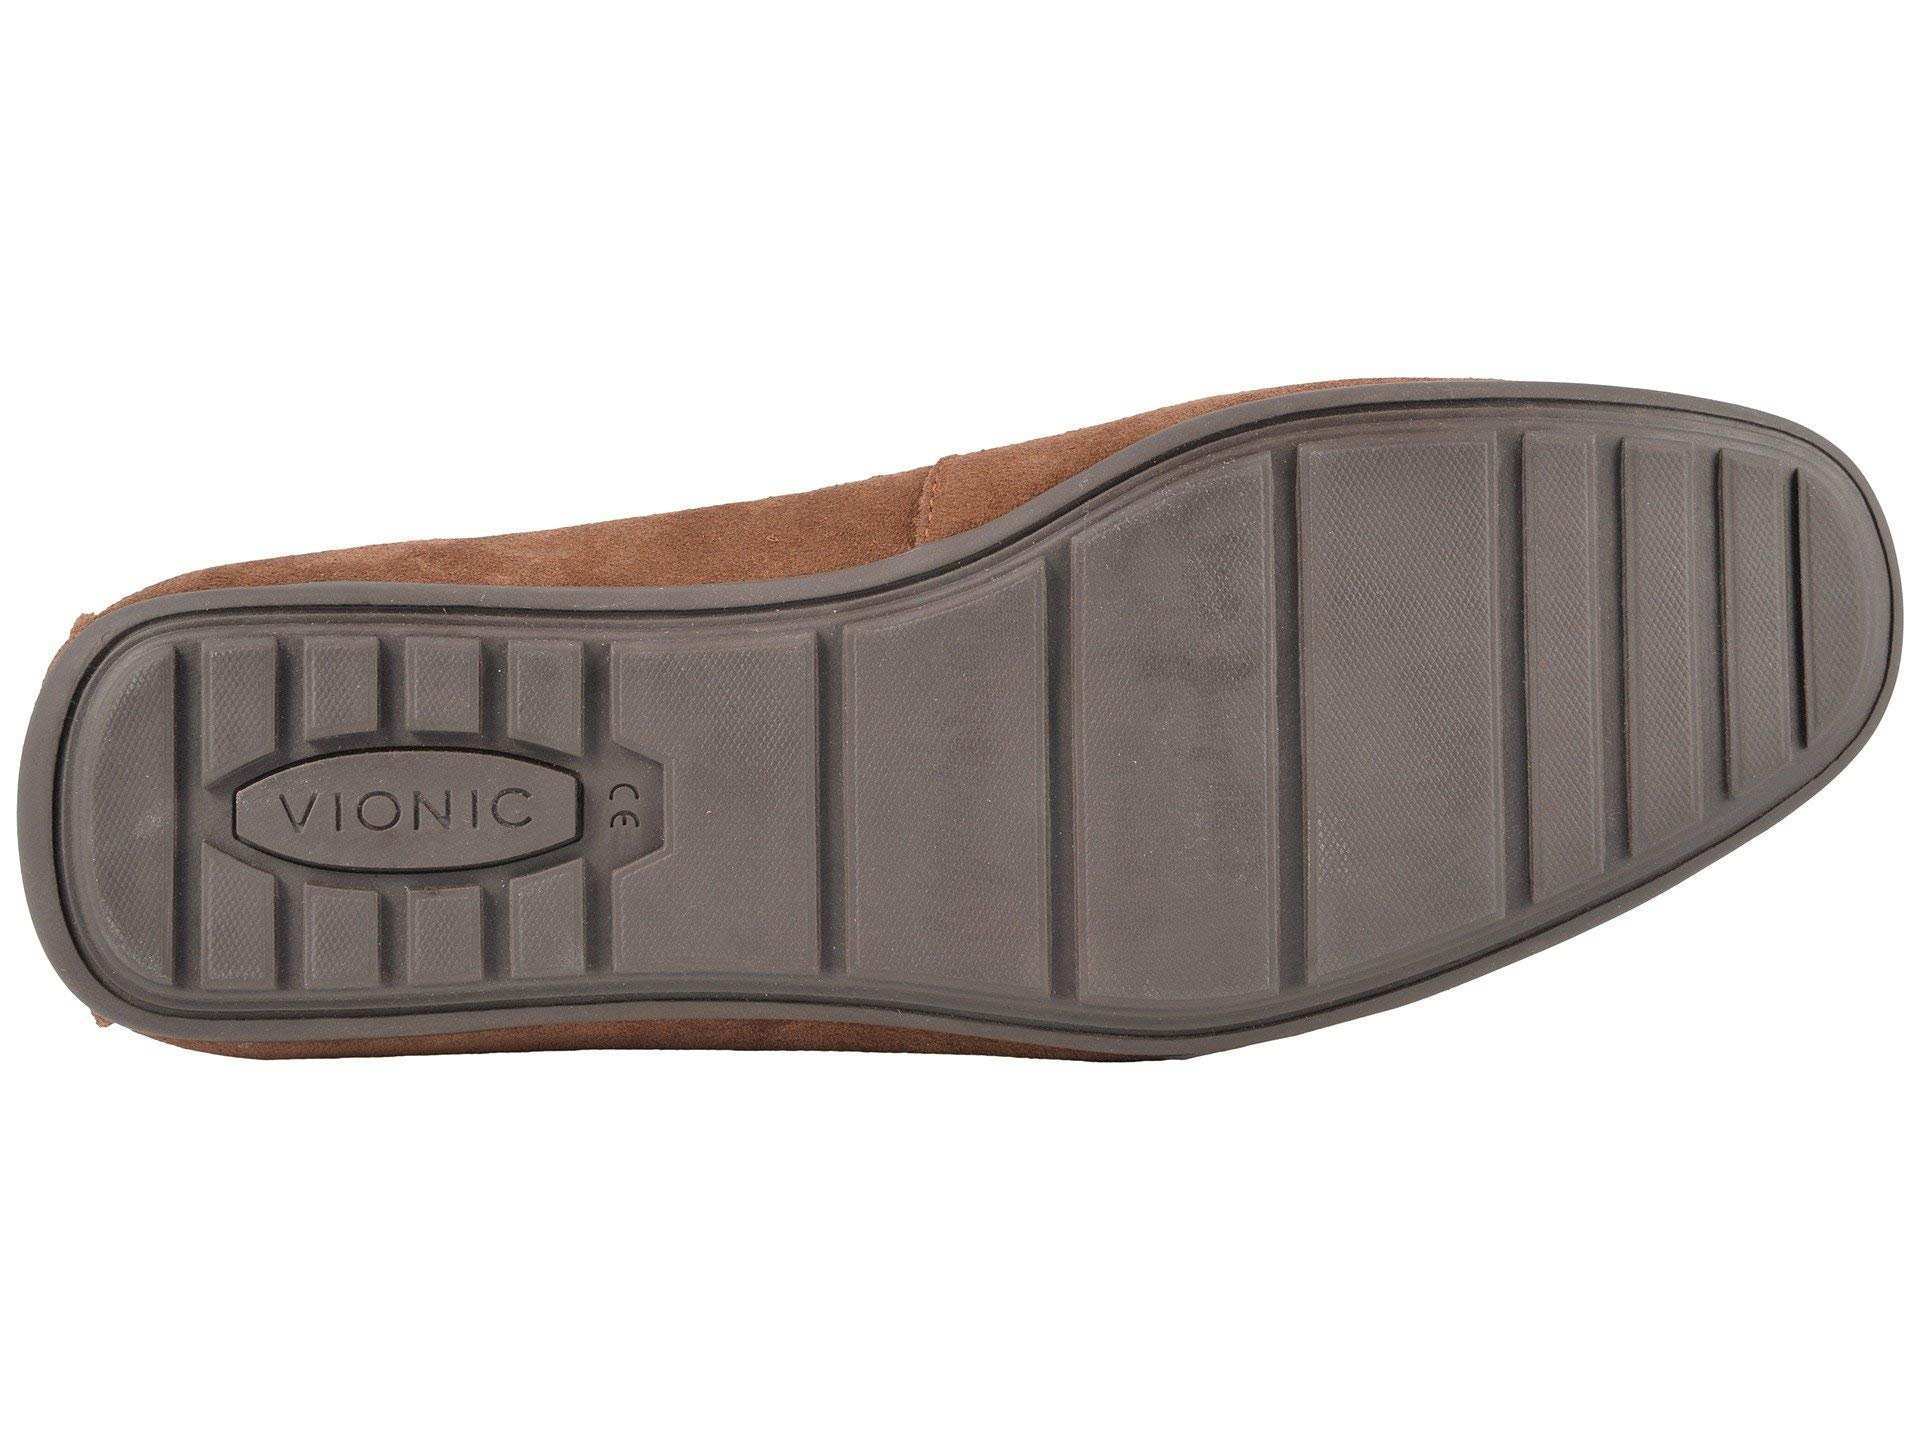circle: (166, 623, 602, 1006)
line: (1469, 501, 1757, 799)
quad: (166, 623, 602, 1006)
text: (166, 623, 602, 1006)
